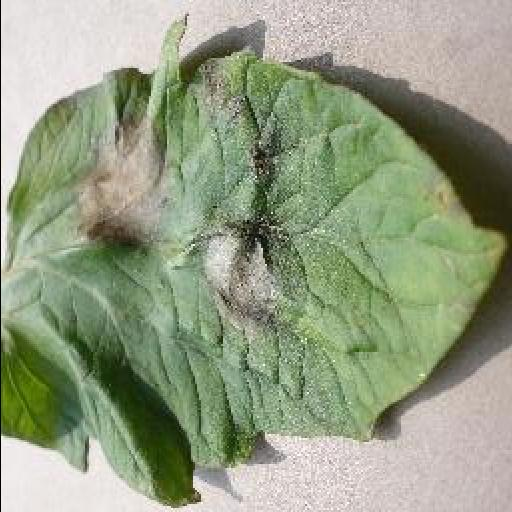disease_tomato: (0, 8, 506, 510)
